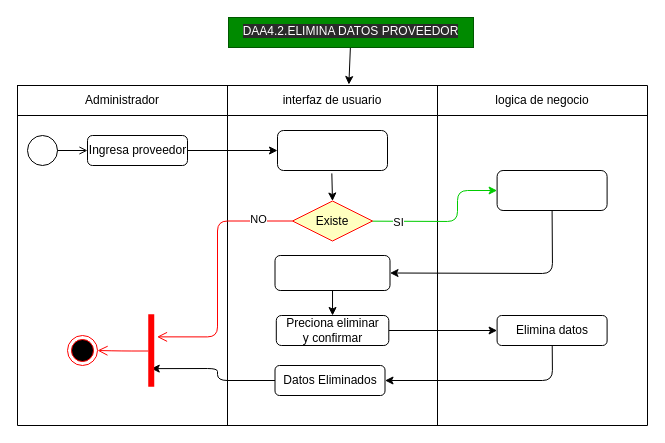
Image size: 665x443. Some labels were removed from this diagram. Each missing label, with the box of its shape:
Consulta datos: (496, 170, 607, 210)
Muestra datos: (274, 254, 390, 290)
Valida registro: (276, 130, 388, 170)
